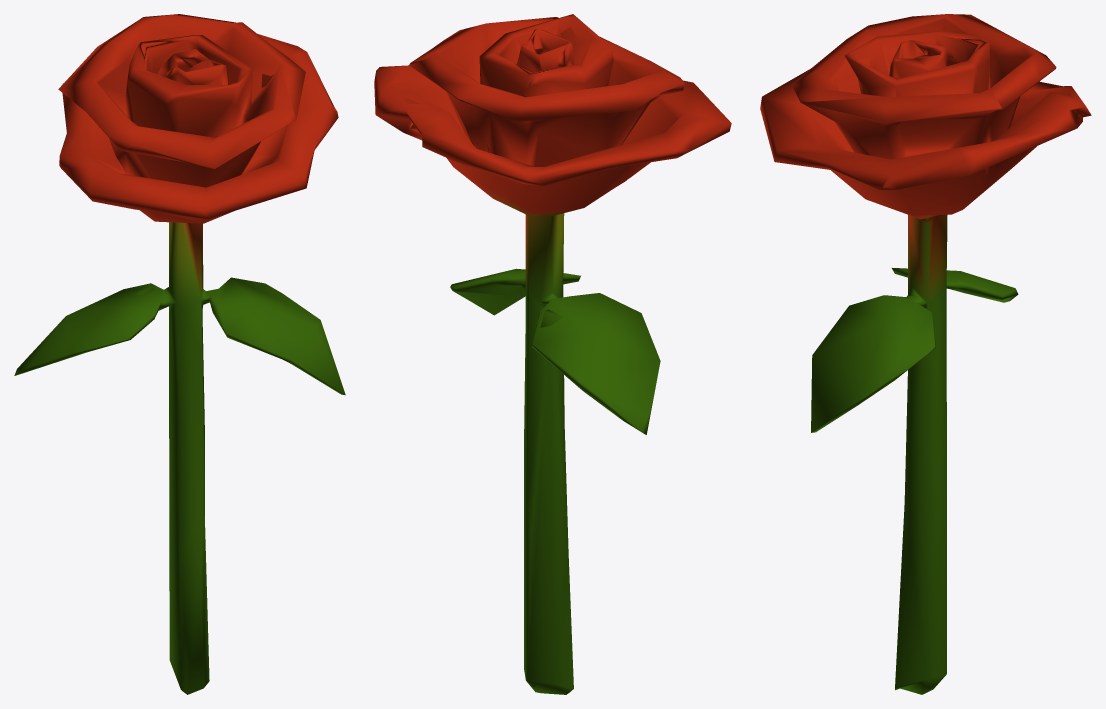
Rendered from gen3d-rose-lod1.glb.
3 views of the same model, side by side, from view 1: azimuth 30°, elevation 25°; view 2: azimuth 150°, elevation 25°; view 3: azimuth 270°, elevation 25° (orthographic). The views are drawn at different scales.
Parts seen in each view (by area): view 1: part_0; view 2: part_0; view 3: part_0.
Boxes of the visible parts, x1,y1,x2,y2 form: part_0: [14, 14, 345, 694]; part_0: [374, 14, 731, 694]; part_0: [760, 14, 1091, 694].
Size of the model in its own units: 0.4665 by 0.9979 by 0.4629.
